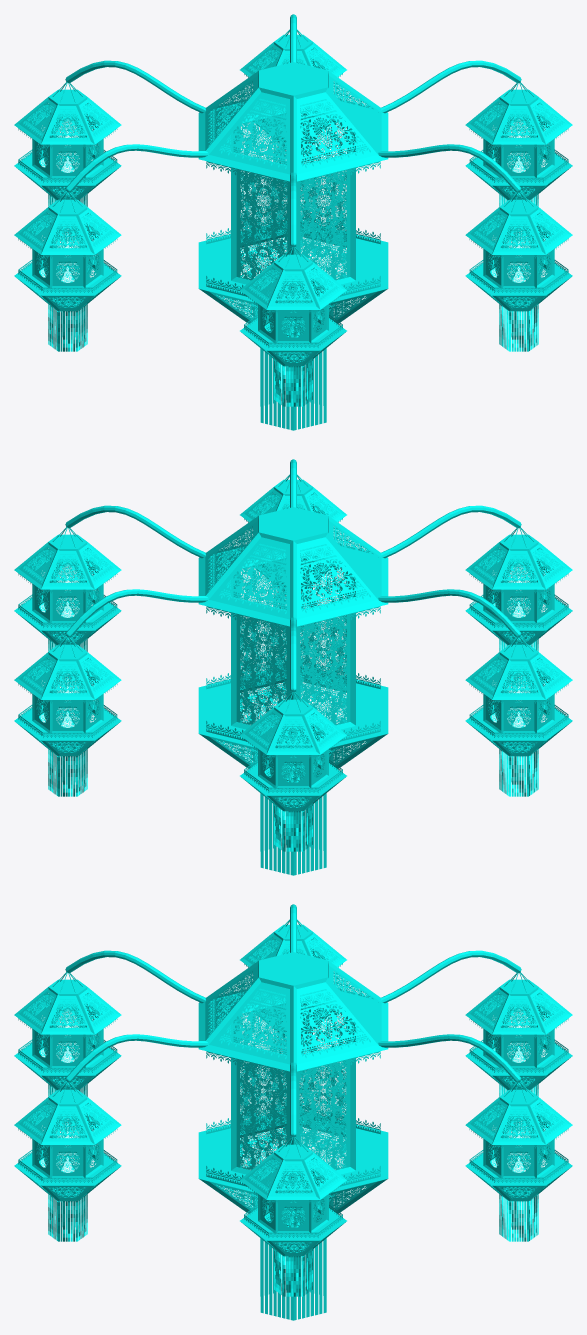
Rendered from lantern rotate.fbx.
3 renders of one model, top to bottom at view 1: azimuth 30°, elevation 25°; view 2: azimuth 150°, elevation 25°; view 3: azimuth 270°, elevation 25°, orthographic.
Visible parts, largest first — view 1: Lantern small (×6), Lantern Big, Strips1 (×3), Handle (×4), Strips.008; view 2: Lantern small (×6), Lantern Big, Strips1 (×3), Handle (×4), Strips.008; view 3: Lantern small (×6), Lantern Big, Strips1 (×3), Handle (×4), Strips.008.
Part boxes in pixels (bbox=[...]): Lantern small (×6): bbox=[14, 34, 572, 366]; Lantern Big: bbox=[198, 62, 388, 337]; Strips1 (×3): bbox=[48, 297, 538, 406]; Handle (×4): bbox=[65, 60, 521, 192]; Strips.008: bbox=[260, 348, 326, 430]; Lantern small (×6): bbox=[14, 479, 572, 811]; Lantern Big: bbox=[198, 507, 388, 782]; Strips1 (×3): bbox=[48, 742, 538, 851]; Handle (×4): bbox=[65, 505, 521, 637]; Strips.008: bbox=[260, 793, 326, 875]; Lantern small (×6): bbox=[14, 924, 572, 1256]; Lantern Big: bbox=[198, 952, 388, 1227]; Strips1 (×3): bbox=[48, 1187, 538, 1296]; Handle (×4): bbox=[65, 950, 521, 1082]; Strips.008: bbox=[260, 1238, 326, 1320].
Bounding box in the file's own units: 70.55 × 42.54 × 64.19.
